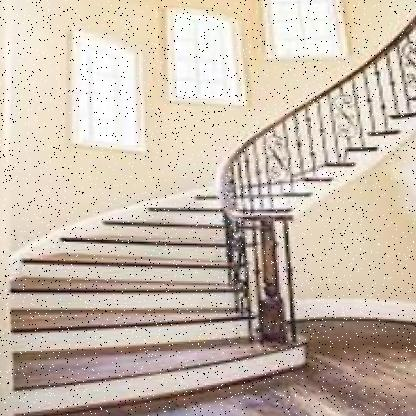stair_up: (7, 234, 306, 402)
